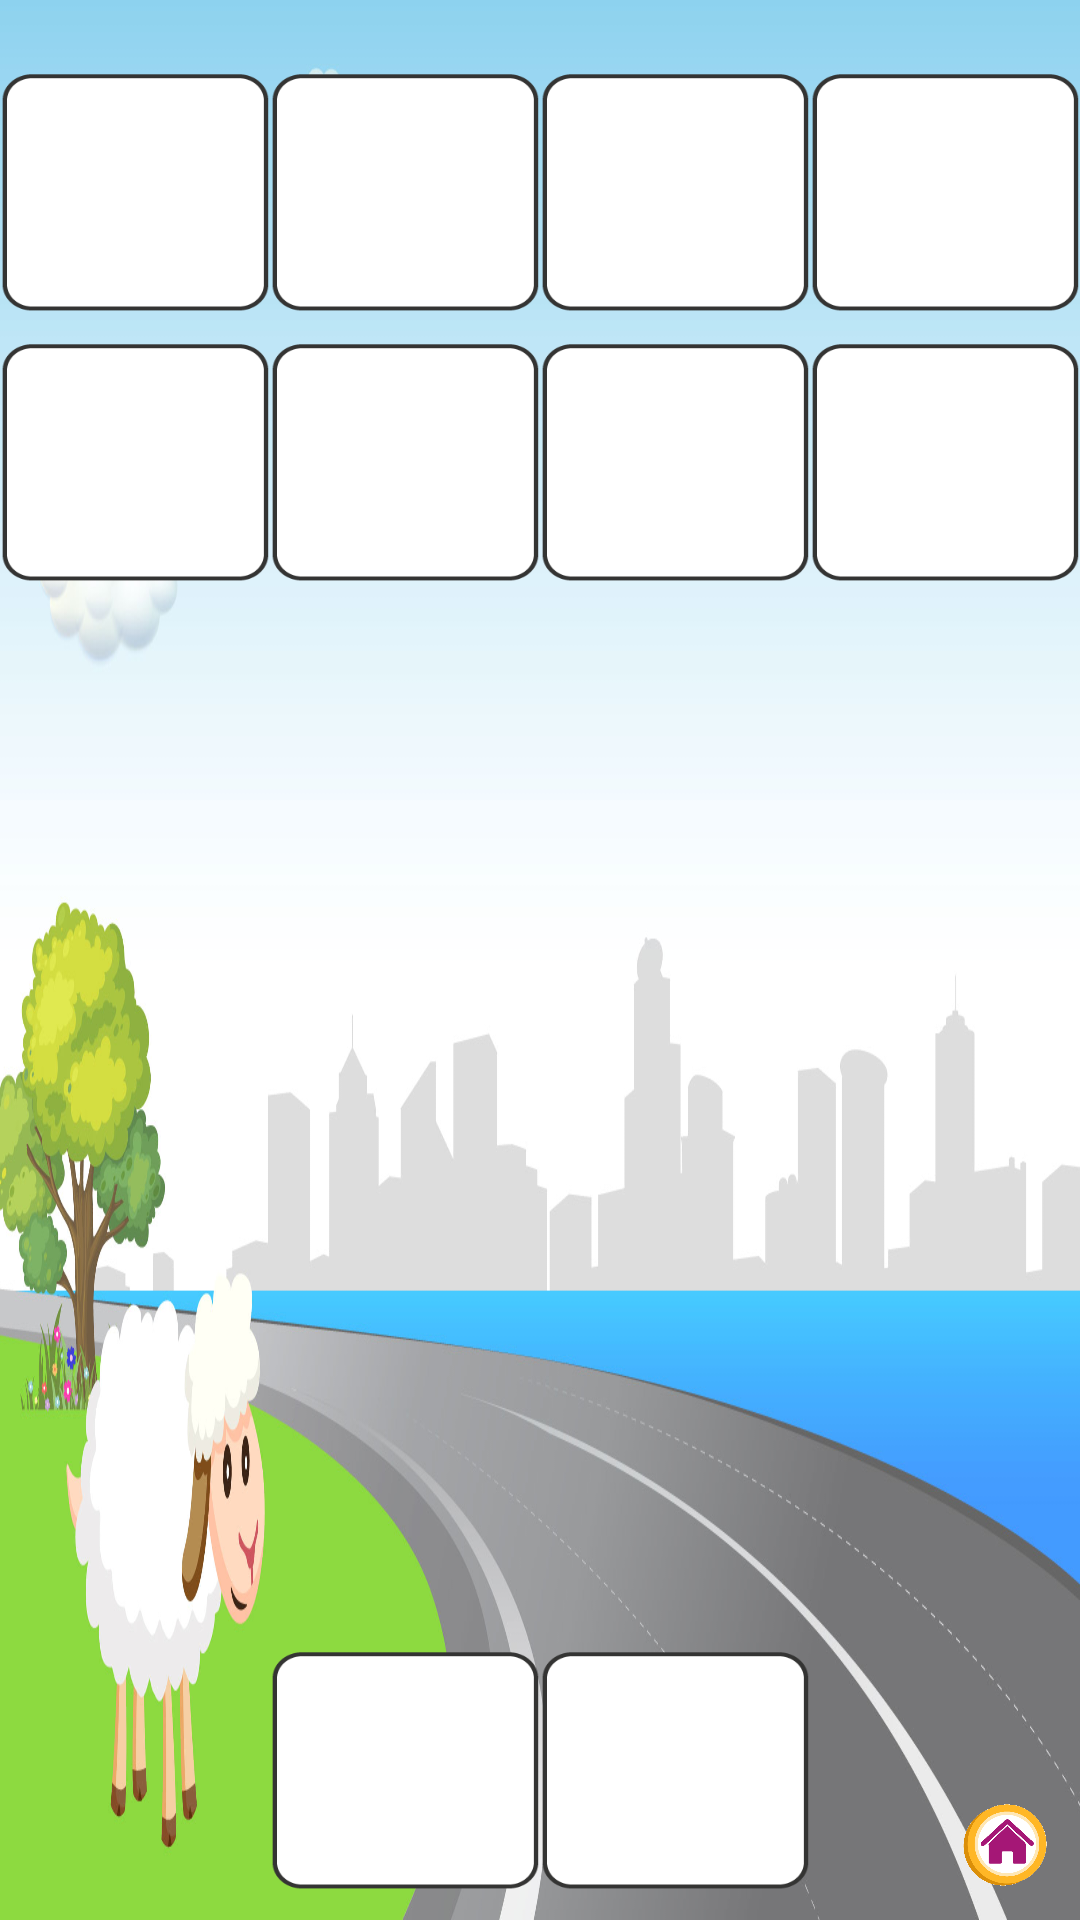

Point at icon controls on the screen. Image size 1080 x 1920, points as (x=x, y=y).
homebutton: (x=1005, y=1845)
